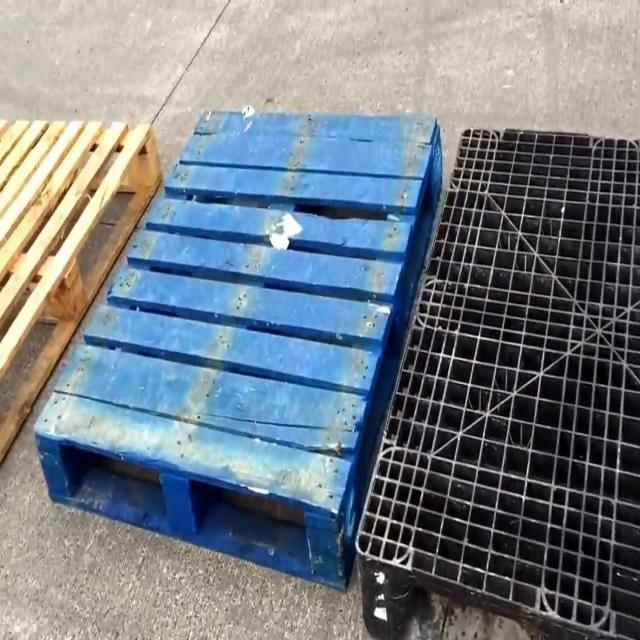Palette: (25, 101, 451, 610), (354, 122, 639, 640), (0, 112, 160, 510)
